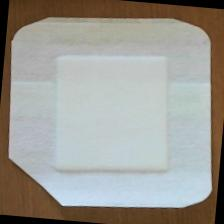Cut: (1, 3, 224, 222)
